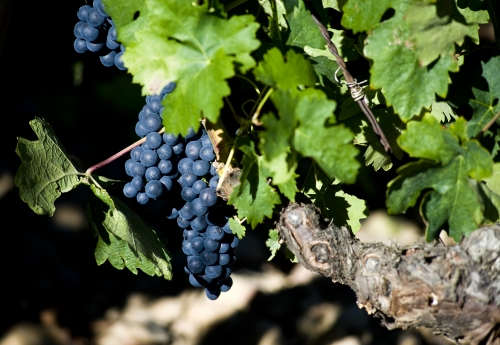Black grapes: (177, 120, 244, 303), (65, 1, 151, 76), (136, 75, 183, 205)
